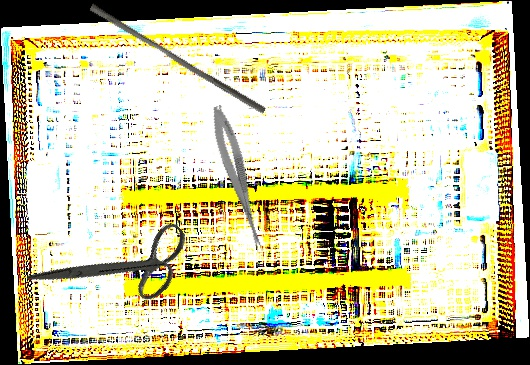Iris Scissors: (26, 179, 204, 354)
Micro Scissor: (205, 103, 273, 255)
Pusher: (86, 2, 270, 115)
